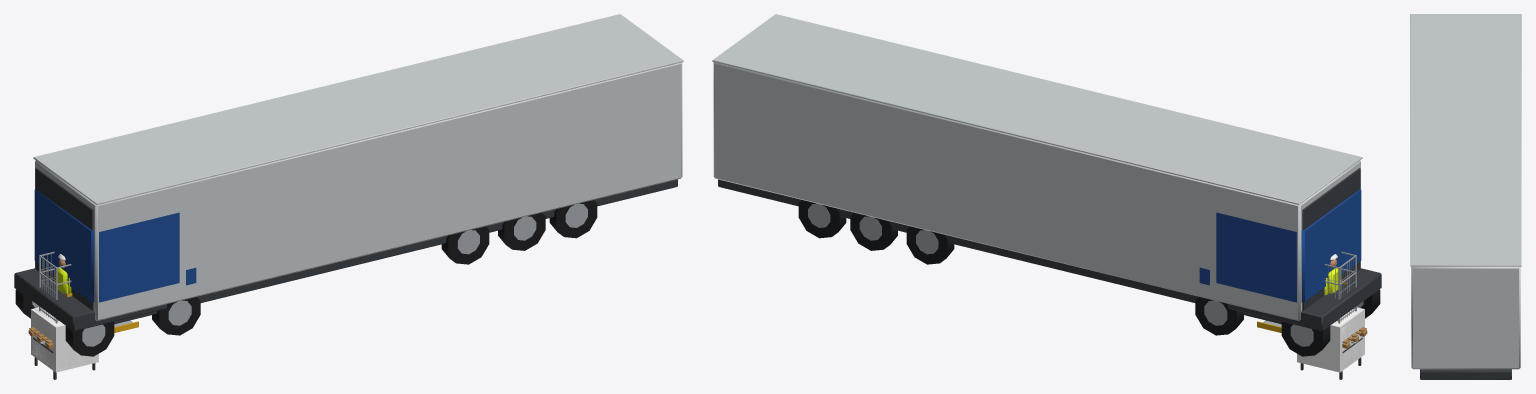
The model's file is activos.glb.
3 views of the same model, side by side, from view 1: azimuth 30°, elevation 25°; view 2: azimuth 150°, elevation 25°; view 3: azimuth 270°, elevation 25° (orthographic). The views are drawn at different scales.
Visible parts, largest first — view 1: acoplado, cabina, paquete, jaula, paquete_hd; view 2: acoplado, cabina, paquete, jaula; view 3: acoplado.
Part boxes in pixels (x1=…): acoplado: x1=33, y1=14, x2=683, y2=324; cabina: x1=14, y1=189, x2=200, y2=356; paquete: x1=31, y1=307, x2=98, y2=372; jaula: x1=39, y1=252, x2=72, y2=323; paquete_hd: x1=32, y1=308, x2=96, y2=368; acoplado: x1=712, y1=14, x2=1362, y2=324; cabina: x1=1195, y1=189, x2=1381, y2=356; paquete: x1=1297, y1=307, x2=1364, y2=372; jaula: x1=1324, y1=252, x2=1356, y2=323; acoplado: x1=1410, y1=14, x2=1521, y2=379.
Bounding box in the file's own units: 14.21 × 4.15 × 2.55.
